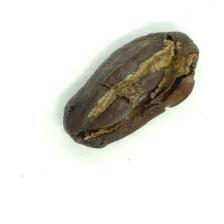NG: (63, 70, 143, 146), (138, 30, 199, 117)
